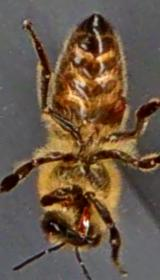varroa_mite: (98, 80, 132, 122)
